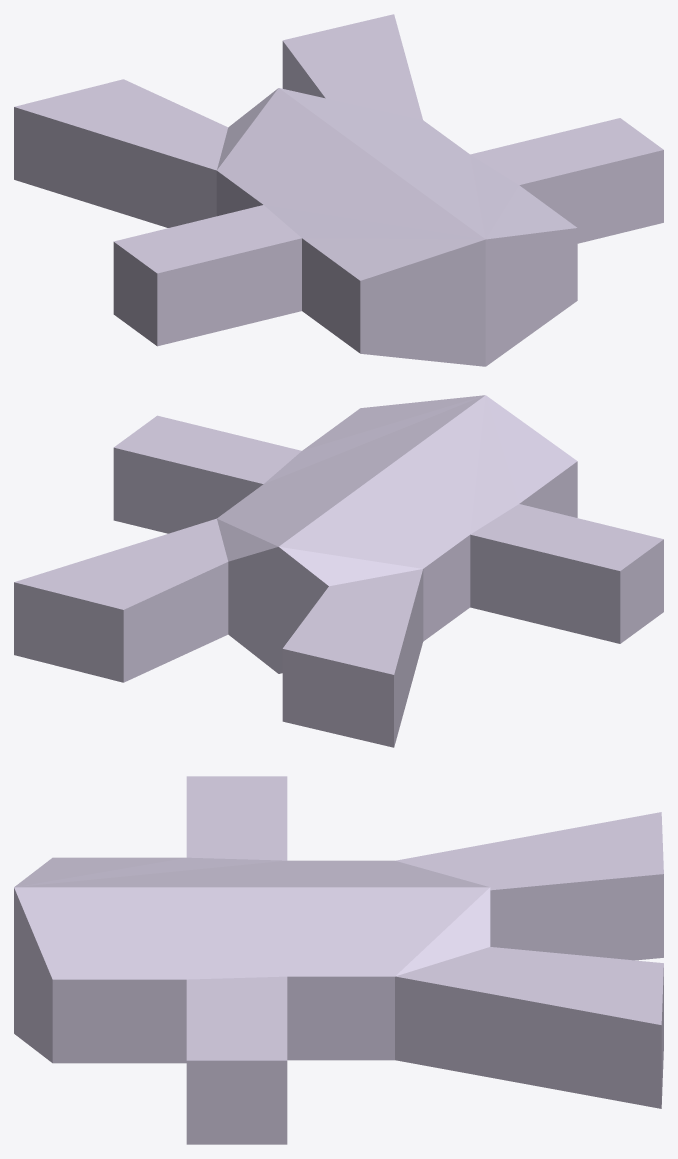
File: Augmented.fbx
3 renders of one model, top to bottom at view 1: azimuth 30°, elevation 25°; view 2: azimuth 150°, elevation 25°; view 3: azimuth 270°, elevation 25°, orthographic. The views are drawn at different scales.
Visible parts, largest first — view 1: Augmented; view 2: Augmented; view 3: Augmented.
Part boxes in pixels (bbox=[...]): Augmented: bbox=[14, 14, 663, 366]; Augmented: bbox=[14, 395, 663, 747]; Augmented: bbox=[14, 776, 663, 1144].
Bounding box in the file's own units: 299 × 71.73 × 289.
